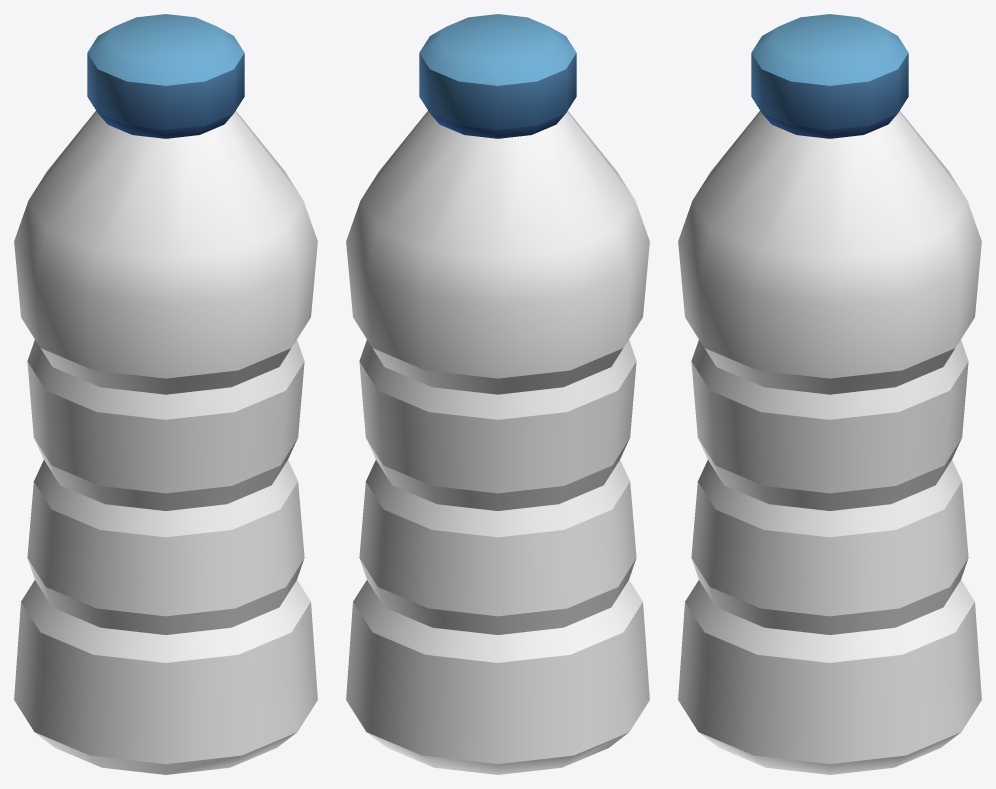
Rendered from waterbottle_B.glb.
3 renders of one model, left to right at view 1: azimuth 30°, elevation 25°; view 2: azimuth 150°, elevation 25°; view 3: azimuth 270°, elevation 25°, orthographic.
Parts seen in each view (by area): view 1: waterbottle_B; view 2: waterbottle_B; view 3: waterbottle_B.
Part boxes in pixels (x1=…): waterbottle_B: x1=14, y1=14, x2=317, y2=774; waterbottle_B: x1=346, y1=14, x2=649, y2=774; waterbottle_B: x1=678, y1=14, x2=981, y2=774.
Size of the model in its own units: 0.3293 by 0.8153 by 0.3293.
Materials: 2 (1 with a texture image).
